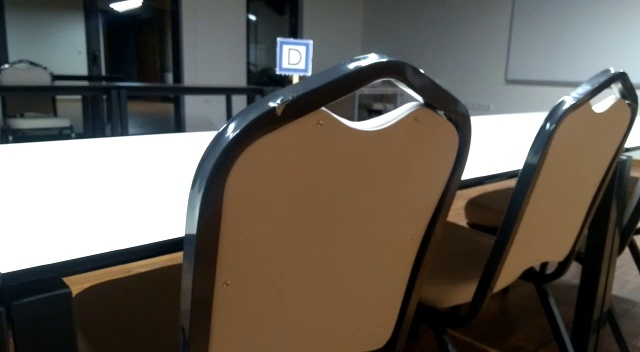durak: (275, 38, 314, 75)
